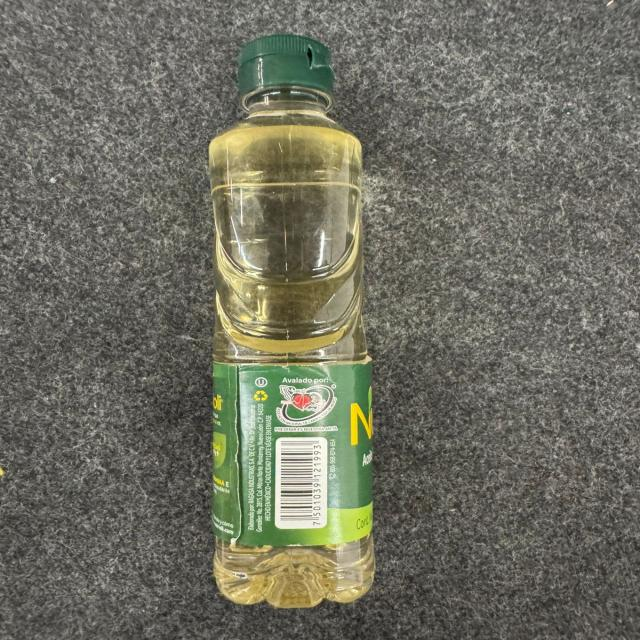ACEITE NUTRIOLI 400 ML: (211, 38, 373, 608)
